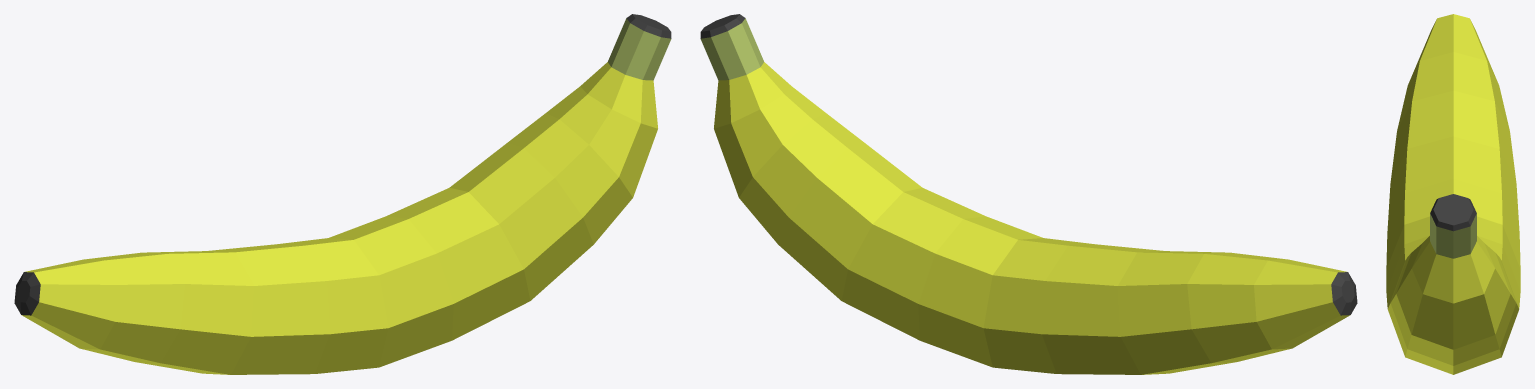
Rendered from bananaSlicedKOOL.fbx.
The picture shows the model from 3 angles, left to right: view 1: azimuth 30°, elevation 25°; view 2: azimuth 150°, elevation 25°; view 3: azimuth 270°, elevation 25°; orthographic projection. The views are drawn at different scales.
Parts seen in each view (by area): view 1: Plane.020, Plane.019; view 2: Plane.020, Plane.019; view 3: Plane.019, Plane.020.
Part boxes in pixels (<box>): Plane.020: <box>329,14,671,367</box>; Plane.019: <box>14,238,388,374</box>; Plane.020: <box>700,14,1042,367</box>; Plane.019: <box>983,238,1357,374</box>; Plane.019: <box>1386,14,1520,268</box>; Plane.020: <box>1386,194,1520,374</box>.
Size of the model in its own units: 317 by 130 by 58.82.
